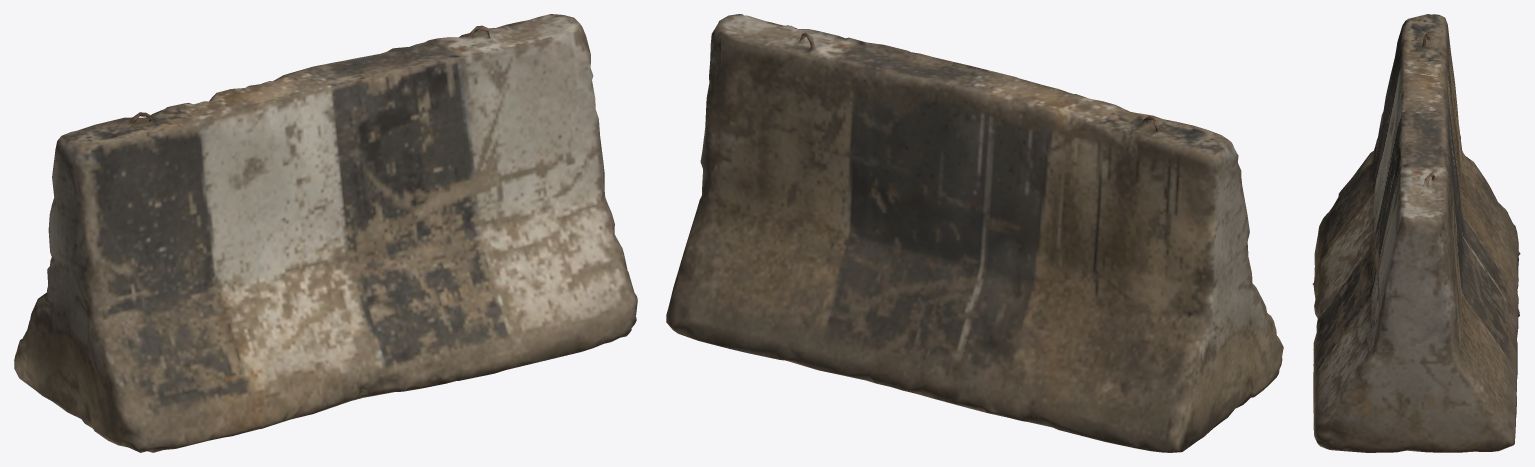
The model's file is concrete_road_barrier.5c7ab57847.glb.
3 views of the same model, side by side, from view 1: azimuth 30°, elevation 25°; view 2: azimuth 150°, elevation 25°; view 3: azimuth 270°, elevation 25° (orthographic). The views are drawn at different scales.
Parts seen in each view (by area): view 1: concrete_road_barrier; view 2: concrete_road_barrier; view 3: concrete_road_barrier.
Part boxes in pixels (left/top/right/bottom): concrete_road_barrier: left=14, top=14, right=637, bottom=452; concrete_road_barrier: left=666, top=14, right=1283, bottom=452; concrete_road_barrier: left=1312, top=14, right=1520, bottom=452.
Bounding box in the file's own units: 1.54 × 0.8304 × 0.6387.
Materials: 1 (1 with a texture image).
